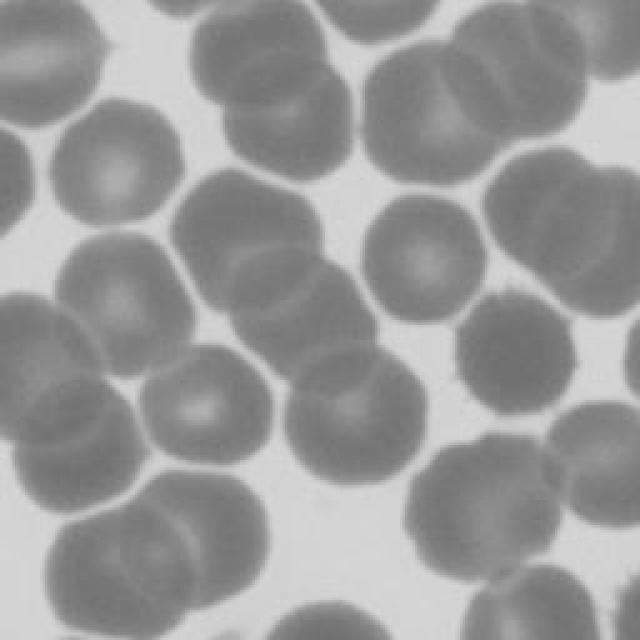RBC: (404, 435, 564, 583), (176, 170, 329, 315), (229, 252, 379, 398), (359, 45, 511, 187), (42, 505, 200, 640), (59, 230, 196, 380), (442, 1, 588, 141), (288, 348, 430, 488), (126, 472, 272, 608), (476, 148, 614, 282), (14, 383, 151, 515), (224, 48, 356, 182), (54, 98, 184, 230), (361, 191, 489, 324), (0, 291, 110, 444), (144, 347, 278, 465), (455, 291, 577, 419), (192, 4, 328, 114), (545, 166, 637, 319), (0, 3, 112, 128), (545, 399, 640, 531), (459, 560, 606, 640), (530, 0, 638, 88), (309, 2, 439, 48), (263, 597, 391, 640), (0, 128, 35, 242), (612, 575, 640, 640)
